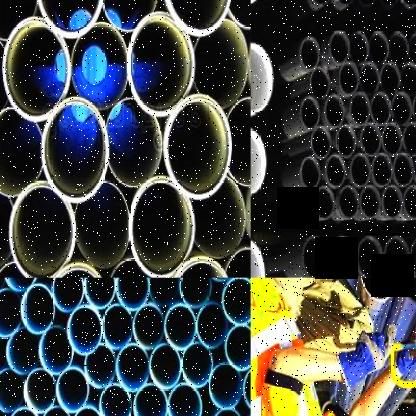pipe: (2, 16, 72, 122), (40, 97, 109, 204), (126, 13, 194, 118), (164, 94, 231, 200), (128, 176, 194, 278), (106, 98, 162, 188), (72, 21, 128, 110), (194, 18, 249, 108), (75, 181, 129, 269), (191, 177, 246, 259), (0, 108, 44, 198), (35, 0, 104, 37), (162, 0, 232, 36), (226, 96, 250, 186), (102, 0, 160, 31), (67, 306, 103, 355), (21, 284, 55, 335), (39, 325, 73, 375), (115, 344, 150, 392), (250, 43, 274, 112), (208, 362, 243, 409), (6, 327, 39, 375), (166, 254, 234, 277), (57, 367, 90, 414), (164, 304, 197, 350), (181, 342, 213, 388), (132, 304, 164, 350), (150, 343, 181, 390), (102, 303, 133, 350), (23, 369, 56, 413), (0, 0, 37, 39), (197, 302, 227, 349), (84, 345, 116, 388), (221, 278, 250, 324), (224, 324, 250, 372), (0, 184, 14, 272), (167, 382, 201, 416), (108, 257, 163, 278), (51, 278, 84, 313), (115, 278, 150, 311), (44, 261, 111, 278), (0, 368, 25, 413), (302, 235, 328, 278), (384, 236, 410, 278), (356, 236, 382, 278), (330, 236, 356, 278), (133, 385, 168, 416), (0, 288, 22, 337), (100, 384, 132, 416), (251, 127, 266, 195), (180, 278, 212, 309), (84, 278, 116, 309), (149, 277, 179, 306), (360, 278, 399, 300), (300, 155, 322, 190), (310, 126, 332, 160), (382, 122, 403, 157), (349, 31, 370, 66), (338, 62, 360, 95), (328, 31, 350, 64), (314, 186, 334, 221), (326, 153, 346, 188), (372, 153, 392, 188), (300, 95, 320, 130), (368, 31, 388, 66), (380, 62, 401, 95), (361, 185, 381, 219), (339, 185, 359, 219), (382, 184, 402, 218), (324, 93, 344, 127), (360, 61, 380, 95), (350, 92, 370, 125), (392, 92, 412, 125), (300, 37, 320, 70), (350, 154, 370, 186), (394, 154, 414, 186), (336, 125, 356, 157), (310, 67, 330, 99), (388, 32, 408, 64), (360, 124, 380, 155), (371, 92, 389, 124), (251, 238, 265, 278), (3, 278, 38, 292), (401, 62, 416, 94), (242, 365, 251, 413), (403, 186, 416, 218), (403, 123, 416, 155), (400, 278, 416, 304), (39, 405, 71, 416), (0, 328, 7, 376), (211, 407, 243, 416), (7, 407, 39, 416), (72, 407, 104, 416), (408, 32, 416, 64), (411, 236, 416, 278), (378, 0, 399, 8), (356, 0, 377, 7), (402, 405, 415, 416), (335, 0, 357, 6), (311, 0, 332, 6), (400, 0, 415, 8)
